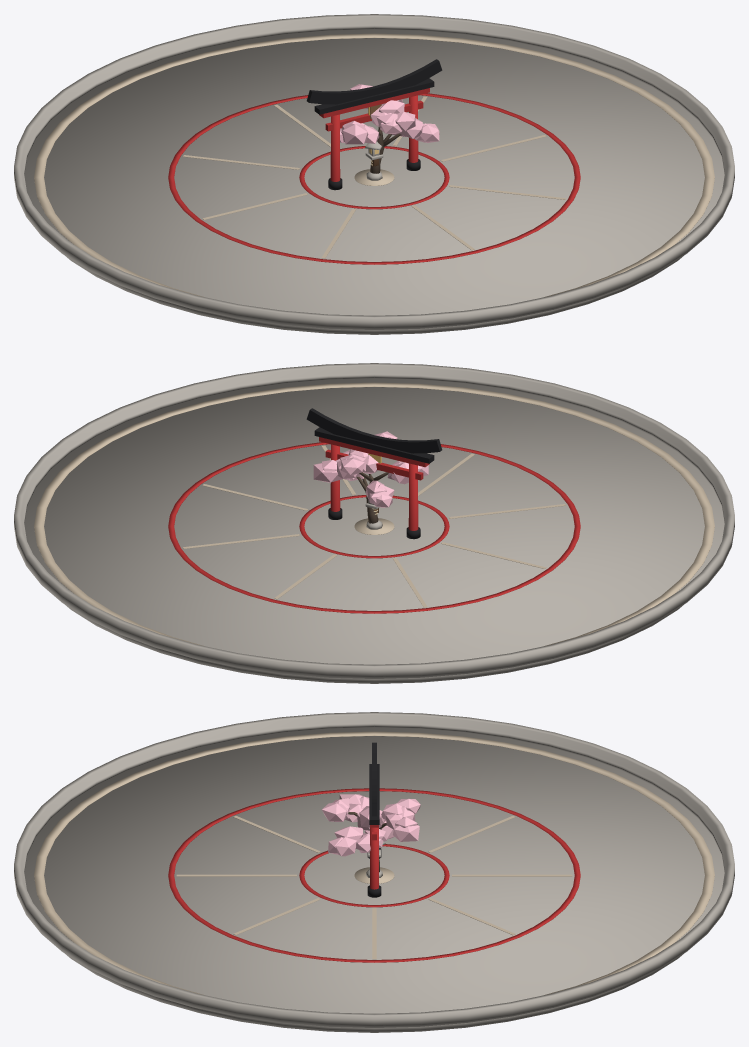
The model's file is Dojo.glb.
3 views of the same model, one above another, from view 1: azimuth 30°, elevation 25°; view 2: azimuth 150°, elevation 25°; view 3: azimuth 270°, elevation 25° (orthographic).
Visible parts, largest first — view 1: DojoArena__Stone_S1, DojoArena__StoneWarm_1, DojoArena__Red_1, SakuraTree__Blossom_1, DojoGate__Black_1, DojoGate__Red_S1, DojoGate__Red_1; view 2: DojoArena__Stone_S1, DojoArena__StoneWarm_1, DojoArena__Red_1, DojoGate__Black_1, SakuraTree__Blossom_1, DojoGate__Red_S1, DojoGate__Red_1; view 3: DojoArena__Stone_S1, DojoArena__StoneWarm_1, DojoArena__Red_1, SakuraTree__Blossom_1, DojoGate__Black_1, DojoGate__Red_S1.
Part boxes in pixels (x1=…): DojoArena__Stone_S1: x1=14, y1=14, x2=734, y2=334; DojoArena__StoneWarm_1: x1=34, y1=33, x2=714, y2=297; DojoArena__Red_1: x1=168, y1=93, x2=580, y2=264; SakuraTree__Blossom_1: x1=340, y1=84, x2=439, y2=144; DojoGate__Black_1: x1=306, y1=59, x2=442, y2=114; DojoGate__Red_S1: x1=330, y1=95, x2=418, y2=181; DojoGate__Red_1: x1=319, y1=88, x2=429, y2=131; DojoArena__Stone_S1: x1=14, y1=363, x2=734, y2=683; DojoArena__StoneWarm_1: x1=34, y1=382, x2=714, y2=646; DojoArena__Red_1: x1=168, y1=442, x2=580, y2=613; DojoGate__Black_1: x1=306, y1=408, x2=442, y2=463; SakuraTree__Blossom_1: x1=313, y1=431, x2=428, y2=507; DojoGate__Red_S1: x1=330, y1=444, x2=418, y2=530; DojoGate__Red_1: x1=319, y1=437, x2=429, y2=480; DojoArena__Stone_S1: x1=14, y1=712, x2=734, y2=1032; DojoArena__StoneWarm_1: x1=34, y1=731, x2=714, y2=995; DojoArena__Red_1: x1=168, y1=788, x2=580, y2=962; SakuraTree__Blossom_1: x1=322, y1=794, x2=420, y2=856; DojoGate__Black_1: x1=369, y1=742, x2=379, y2=824; DojoGate__Red_S1: x1=370, y1=827, x2=378, y2=889.
Size of the model in its own units: 144 by 24.54 by 144.
